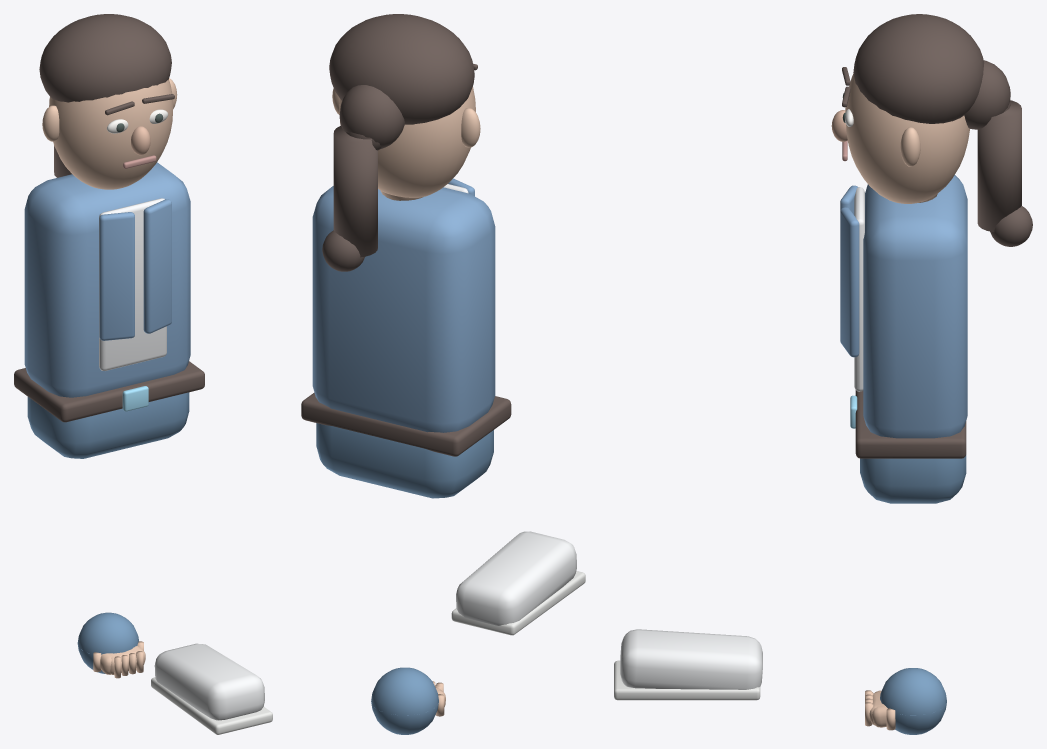
The picture shows the model from 3 angles, left to right: view 1: azimuth 30°, elevation 25°; view 2: azimuth 150°, elevation 25°; view 3: azimuth 270°, elevation 25°; orthographic projection. The views are drawn at different scales.
Visible parts, largest first — view 1: Torso, HairCap, HeadMesh, Pelvis, ShoeL, LapelL, Belt, LapelR, ShirtFront, ThighL_cap_a, SoleL, Buckle (+2 smaller); view 2: Torso, HairCap, Pelvis, ShoeL, HeadMesh, Ponytail, Belt, ThighL_cap_a, PonyBase, SoleL, Ponytail_cap_b, EarL (+1 smaller); view 3: Torso, HairCap, HeadMesh, ShoeL, Ponytail, Pelvis, ThighL_cap_a, Belt, LapelR, SoleL, PonyBase, ShirtFront (+1 smaller).
Part boxes in pixels (x1,y1,x2,y2): Torso: [24, 162, 190, 397]; HairCap: [39, 14, 171, 102]; HeadMesh: [49, 79, 173, 189]; Pelvis: [27, 392, 189, 458]; ShoeL: [154, 643, 264, 720]; LapelL: [99, 212, 134, 340]; Belt: [14, 361, 204, 422]; LapelR: [143, 199, 171, 333]; ShirtFront: [99, 198, 166, 370]; ThighL_cap_a: [77, 612, 138, 673]; SoleL: [151, 677, 272, 734]; Buckle: [122, 386, 148, 411]; Torso: [312, 186, 495, 432]; HairCap: [329, 14, 474, 124]; Pelvis: [316, 423, 493, 498]; ShoeL: [456, 531, 576, 625]; HeadMesh: [339, 86, 475, 197]; Ponytail: [333, 126, 377, 257]; Belt: [301, 392, 511, 456]; ThighL_cap_a: [371, 667, 438, 734]; PonyBase: [339, 85, 404, 149]; SoleL: [451, 571, 585, 635]; Ponytail_cap_b: [322, 230, 364, 271]; EarL: [461, 108, 480, 147]; Torso: [863, 175, 967, 438]; HairCap: [853, 14, 984, 123]; HeadMesh: [845, 73, 969, 203]; ShoeL: [620, 629, 762, 689]; Ponytail: [977, 100, 1021, 232]; Pelvis: [860, 455, 966, 503]; ThighL_cap_a: [880, 668, 946, 734]; Belt: [855, 390, 966, 458]; LapelR: [840, 207, 859, 357]; SoleL: [614, 660, 760, 700]; PonyBase: [964, 60, 1010, 129]; ShirtFront: [854, 187, 864, 391].
Size of the model in its own units: 0.41 by 1.76 by 0.945.
